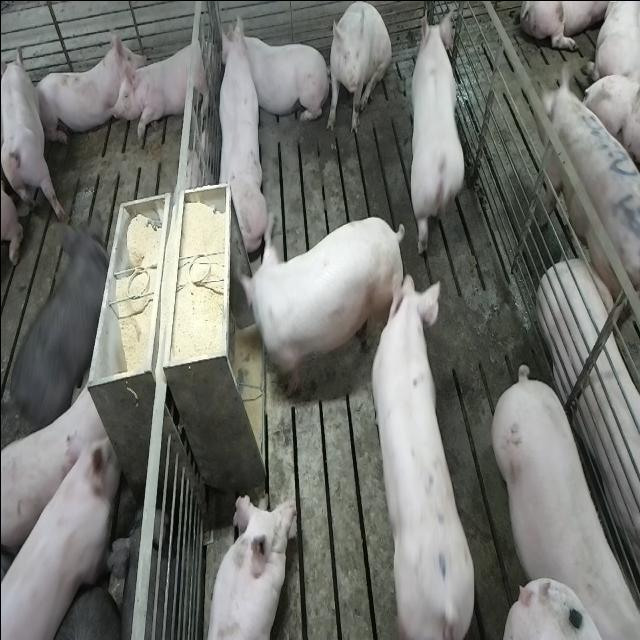Feeding: (236, 222, 408, 406)
Lateral_lying: (539, 258, 640, 596)
Sitting: (212, 14, 267, 256), (326, 3, 392, 137)
Standing: (372, 265, 483, 640), (487, 360, 635, 636), (539, 74, 640, 340), (3, 227, 111, 448), (1, 380, 116, 576), (406, 11, 464, 249)
Sternal_lying: (201, 490, 293, 640), (34, 22, 144, 146), (222, 22, 324, 124), (118, 30, 214, 138)
